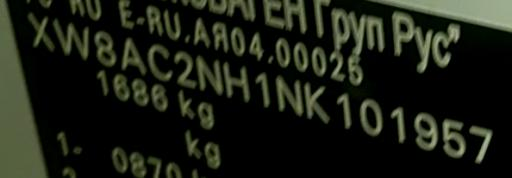letter: (52, 16, 90, 61), (273, 74, 305, 118), (223, 58, 253, 104), (194, 52, 224, 96), (440, 111, 468, 158), (303, 80, 331, 126), (411, 108, 439, 153), (468, 120, 496, 165), (146, 40, 174, 83), (358, 96, 386, 137), (330, 90, 358, 130), (386, 101, 410, 146), (28, 11, 54, 52), (118, 37, 144, 78), (92, 27, 118, 66), (174, 46, 196, 90), (253, 68, 273, 112)
